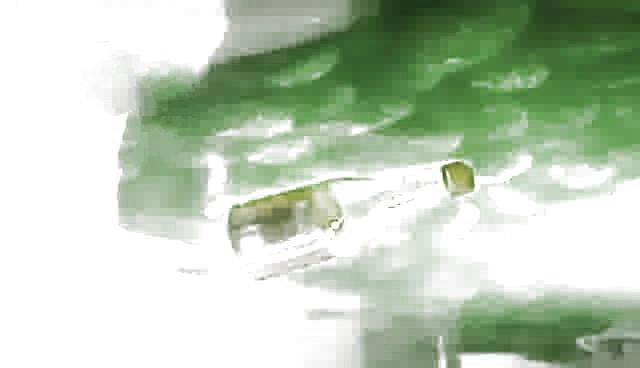Plastic: (198, 153, 482, 295)
